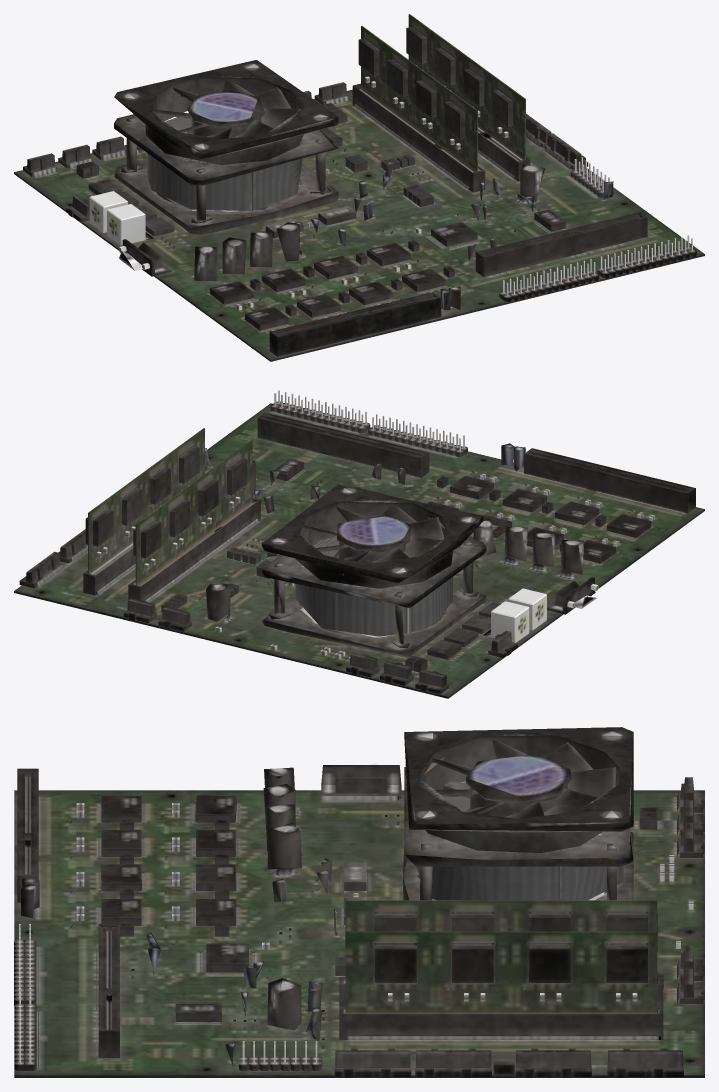
Rendered from circuit-board.glb.
3 views of the same model, one above another, from view 1: azimuth 30°, elevation 25°; view 2: azimuth 150°, elevation 25°; view 3: azimuth 270°, elevation 25° (orthographic). The views are drawn at different scales.
Parts seen in each view (by area): view 1: circuit_board; view 2: circuit_board; view 3: circuit_board.
Boxes of the visible parts, box(x1,y1,x2,y2) form: circuit_board: box(14, 14, 704, 361); circuit_board: box(14, 390, 704, 698); circuit_board: box(14, 727, 704, 1077).
Size of the model in its own units: 0.4035 by 0.077 by 0.3974.
Materials: 2 (2 with a texture image).
